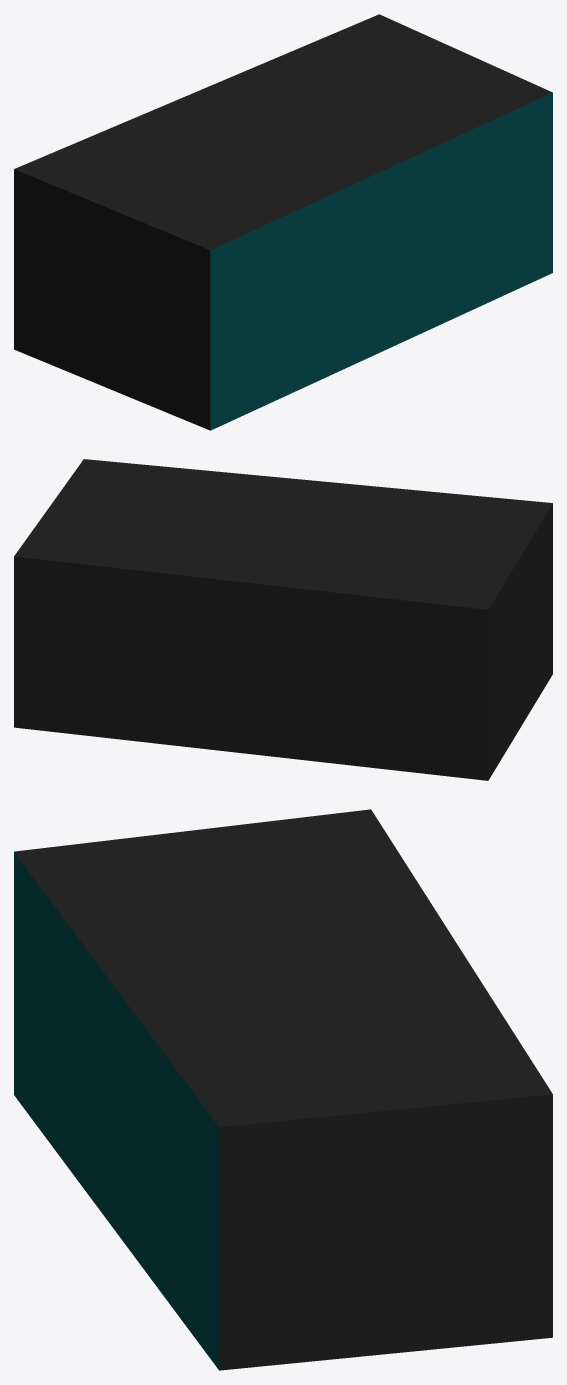
Rendered from B_Werth_55_B_.FBX.
The picture shows the model from 3 angles, top to bottom: view 1: azimuth 30°, elevation 25°; view 2: azimuth 150°, elevation 25°; view 3: azimuth 270°, elevation 25°; orthographic projection. The views are drawn at different scales.
Parts seen in each view (by area): view 1: B_Werth_55_B, B_Werth_55_B_front; view 2: B_Werth_55_B; view 3: B_Werth_55_B, B_Werth_55_B_front.
Part boxes in pixels (x1=…): B_Werth_55_B: x1=14, y1=14, x2=552, y2=430; B_Werth_55_B_front: x1=210, y1=92, x2=552, y2=430; B_Werth_55_B: x1=14, y1=459, x2=552, y2=780; B_Werth_55_B: x1=14, y1=809, x2=552, y2=1370; B_Werth_55_B_front: x1=14, y1=852, x2=219, y2=1370.
Bounding box in the file's own units: 2801 × 1000 × 2007.
